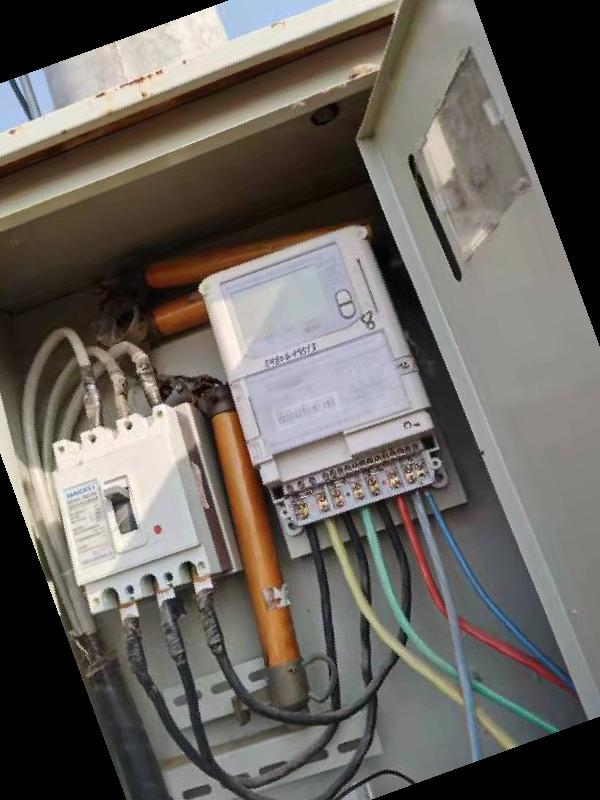digital: (198, 225, 429, 469)
